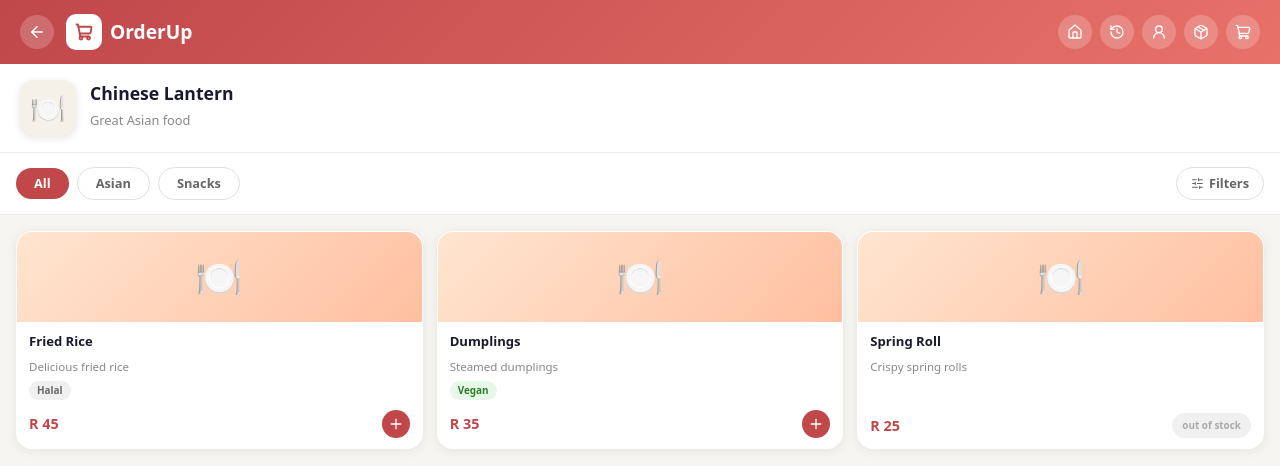
Scenario: VendorMenuPage › clicking a category chip filters items
Click the button "Snacks" at (199, 184), box [158, 167, 240, 200]
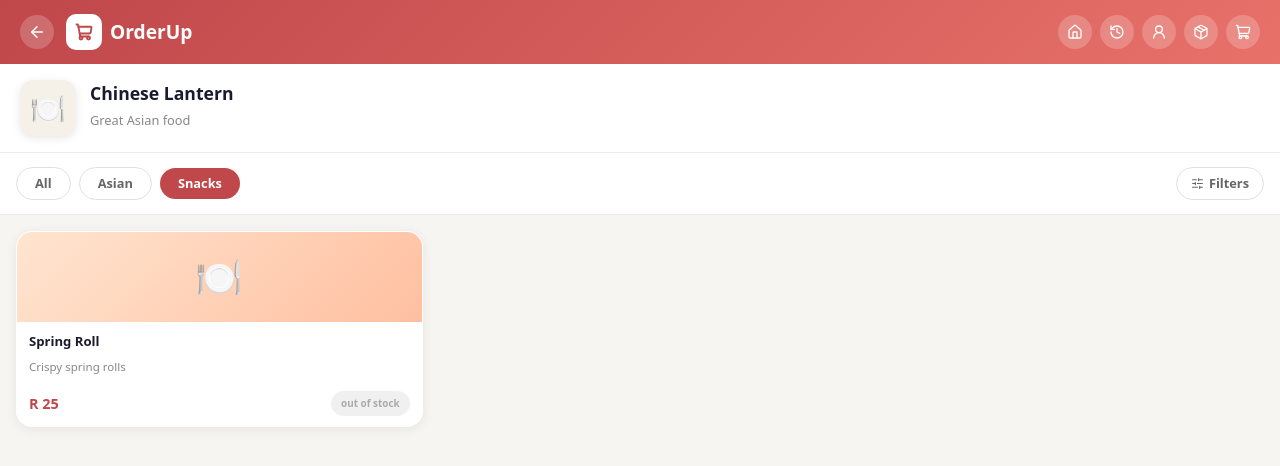
Expected: the heading "Spring Roll" is shown, [29, 332, 100, 350]
Now the heading "Fried Rice" is gone
